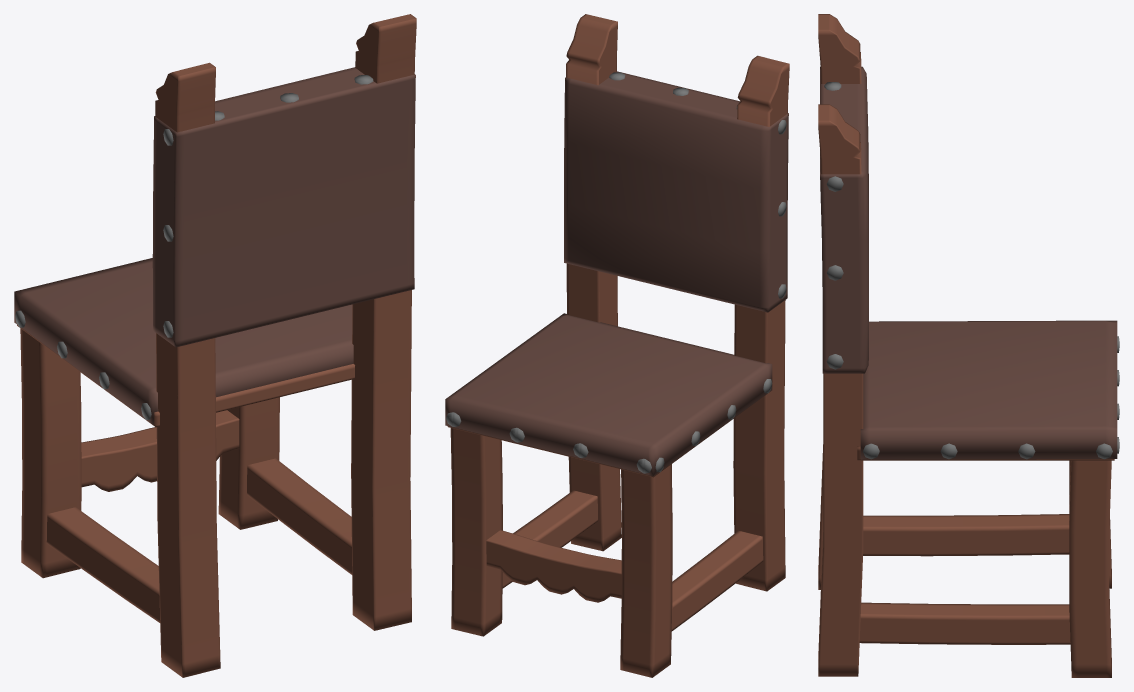
Rendered from Crypt Chair.fbx.
3 renders of one model, left to right at view 1: azimuth 30°, elevation 25°; view 2: azimuth 150°, elevation 25°; view 3: azimuth 270°, elevation 25°, orthographic. The views are drawn at different scales.
Parts seen in each view (by area): view 1: Chair; view 2: Chair; view 3: Chair.
Part boxes in pixels (<box>): Chair: <box>14,14,416,677</box>; Chair: <box>445,14,789,677</box>; Chair: <box>818,14,1119,677</box>.
Size of the model in its own units: 63.79 by 56.01 by 130.
